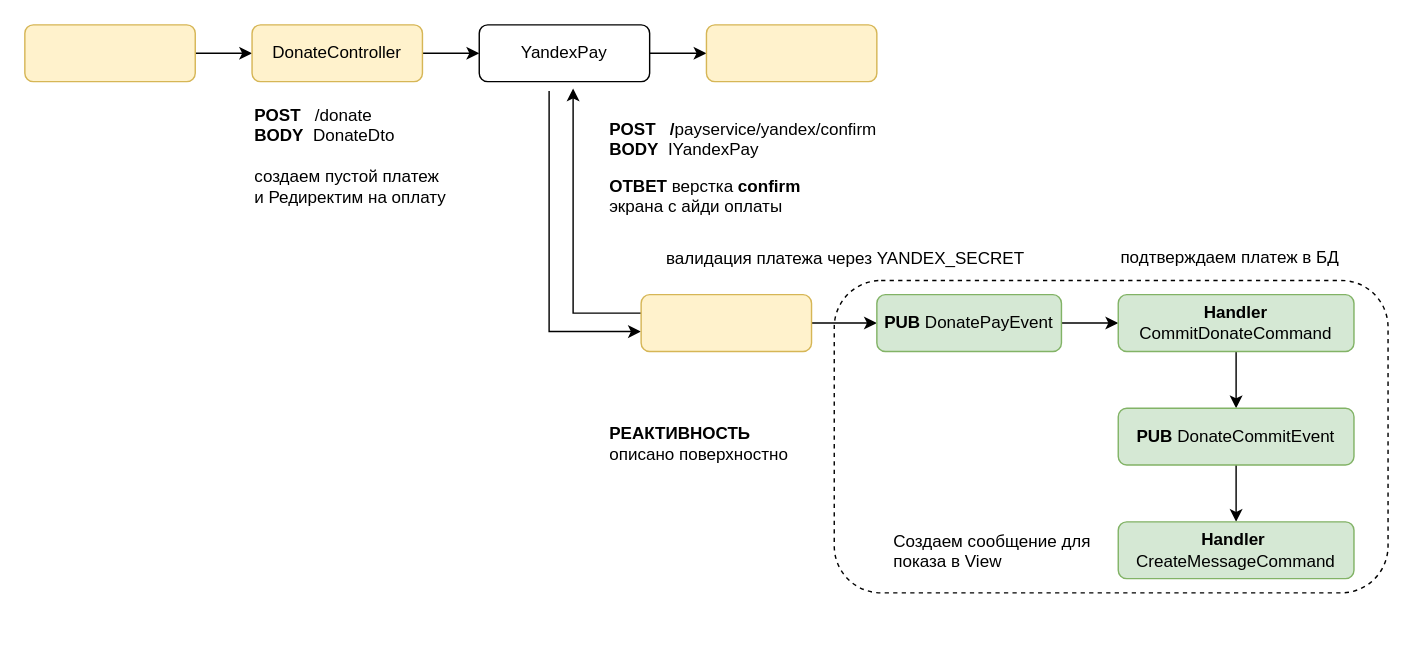
Some shapes in this 1413 by 660 pixel diagram are drawn without their labels. Here are the shapes that lost their labels. From the top down, the centre of each, then its label:
At [109,52]: "Pay processing...".
At [791,52]: "Confirm".
At [726,322]: "YandexPayService".
